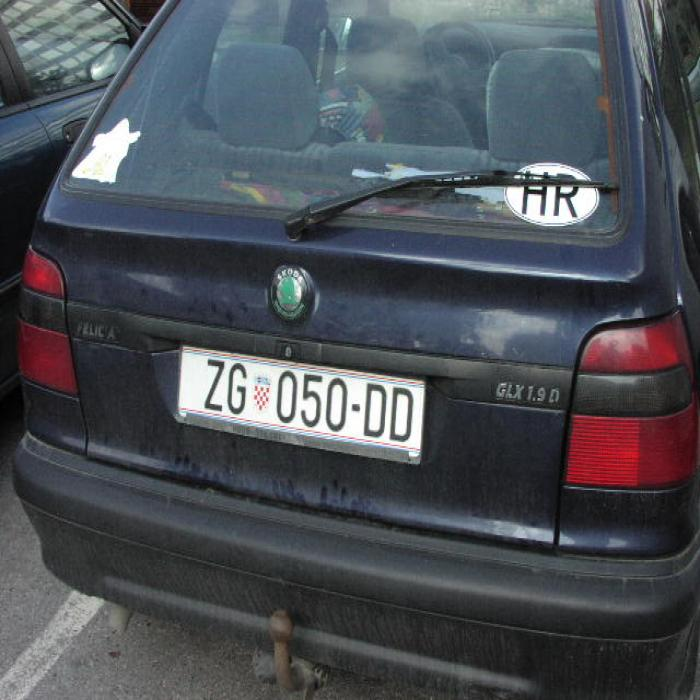number_plate: (180, 348, 418, 448)
